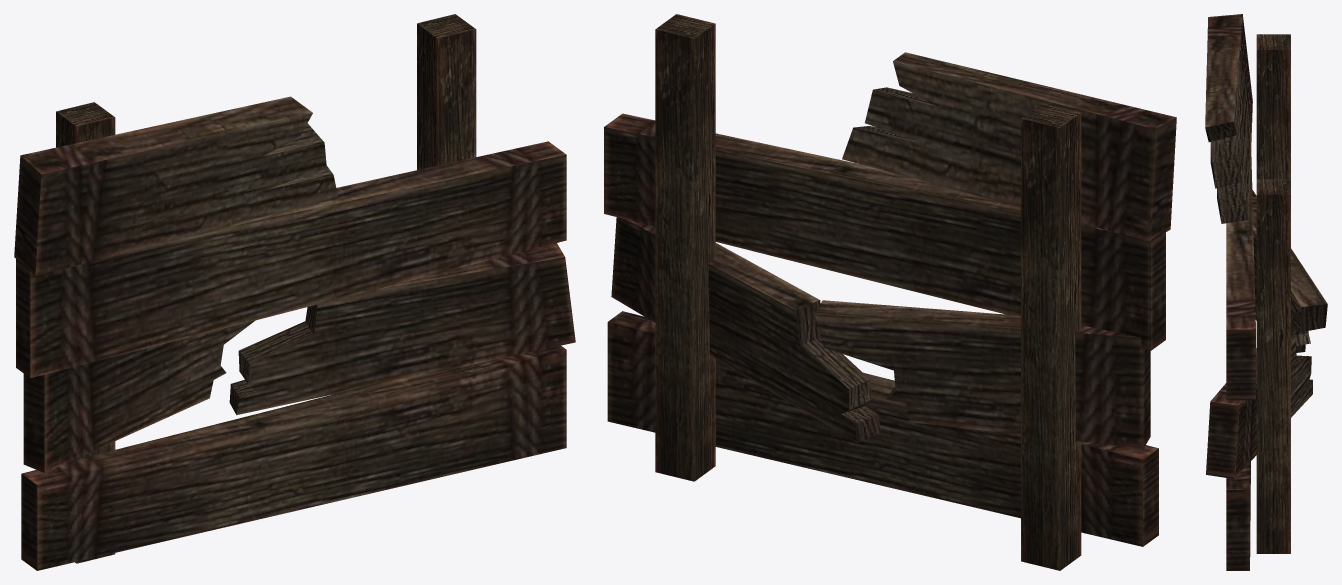
The picture shows the model from 3 angles, left to right: view 1: azimuth 30°, elevation 25°; view 2: azimuth 150°, elevation 25°; view 3: azimuth 270°, elevation 25°; orthographic projection. The views are drawn at different scales.
Parts seen in each view (by area): view 1: model_Object66; view 2: model_Object66; view 3: model_Object66.
Part boxes in pixels (bbox=[...]): model_Object66: bbox=[14, 14, 575, 570]; model_Object66: bbox=[604, 14, 1176, 570]; model_Object66: bbox=[1205, 14, 1327, 570].
Bounding box in the file's own units: 2.81 × 2.17 × 0.6704.
2 materials, 2 textured.
